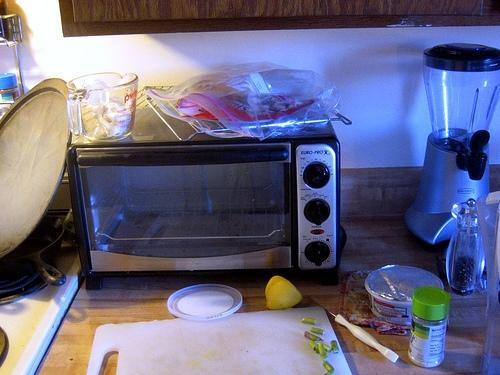lemon: (265, 276, 302, 310)
